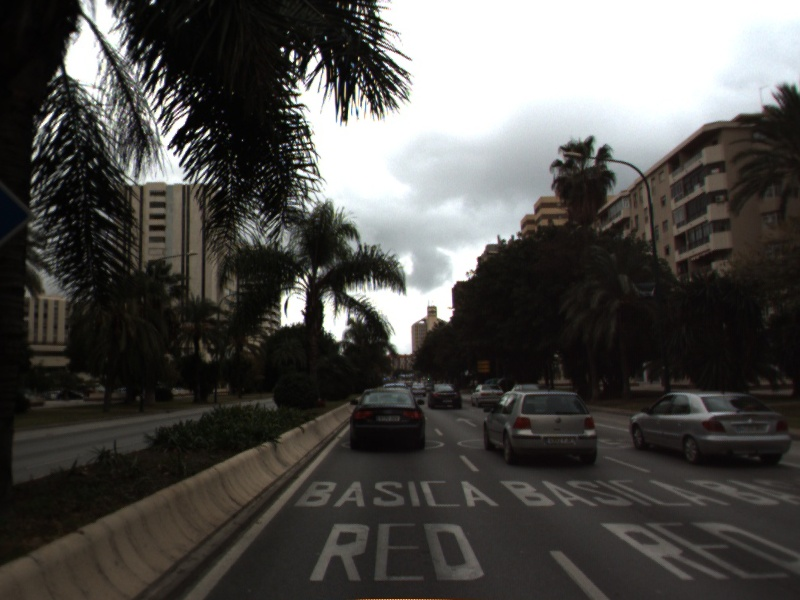STRAIGHT: (454, 414, 480, 429)
